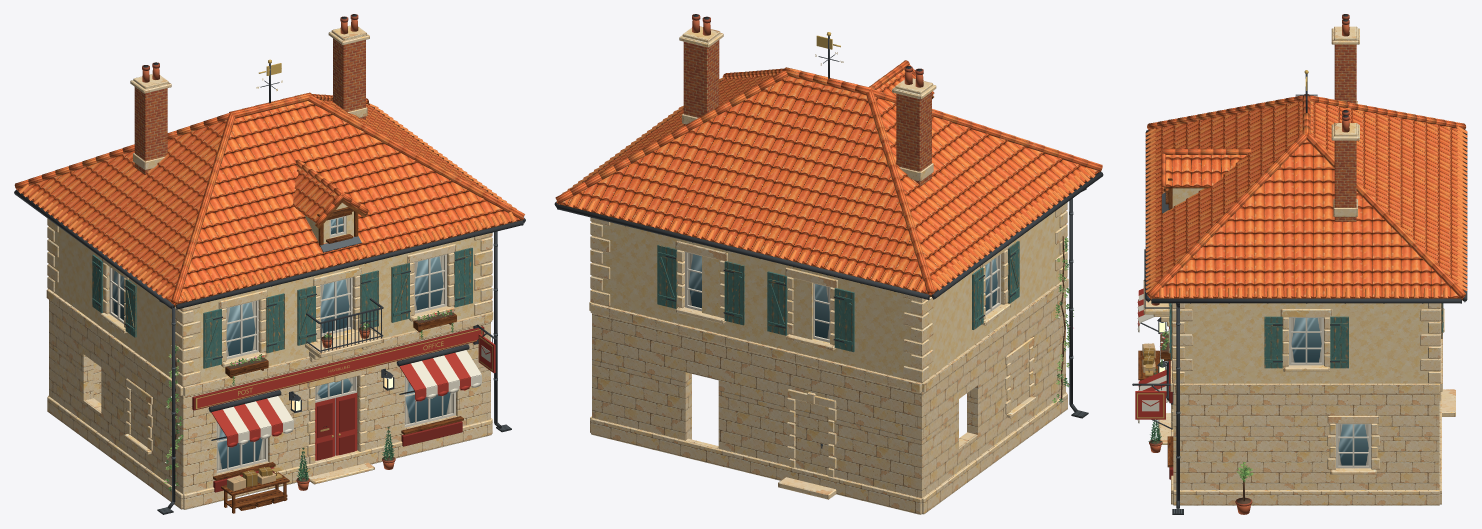
3 views of the same model, side by side, from view 1: azimuth 30°, elevation 25°; view 2: azimuth 150°, elevation 25°; view 3: azimuth 270°, elevation 25° (orthographic). The views are drawn at different scales.
Parts seen in each view (by area): view 1: seaside_roof, seaside_stone, house_paint, seaside_plaster, seaside_shutter, house_window_pane, seaside_ridge, house_brick, detail_parcels, seaside_timber, detail_window_boxes, detail_planters (+1 smaller); view 2: seaside_stone, seaside_roof, seaside_plaster, seaside_ridge, house_paint, seaside_shutter, house_brick, house_window_pane, detail_vines; view 3: seaside_roof, seaside_stone, seaside_plaster, house_paint, seaside_ridge, house_brick, house_window_pane, seaside_shutter, seaside_timber, detail_planters, detail_parcels.
Boxes of the visible parts, bbox=[...] form: seaside_roof: bbox=[17, 99, 524, 304]; seaside_stone: bbox=[46, 25, 493, 509]; house_paint: bbox=[14, 14, 525, 514]; seaside_plaster: bbox=[49, 203, 490, 387]; seaside_shutter: bbox=[92, 247, 472, 368]; house_window_pane: bbox=[112, 217, 452, 470]; seaside_ridge: bbox=[14, 92, 524, 304]; house_brick: bbox=[134, 38, 365, 174]; detail_parcels: bbox=[221, 466, 289, 513]; seaside_timber: bbox=[41, 198, 522, 480]; detail_window_boxes: bbox=[225, 309, 456, 385]; detail_planters: bbox=[296, 427, 395, 490]; seaside_stone: bbox=[589, 26, 1068, 514]; seaside_roof: bbox=[556, 64, 1099, 294]; seaside_plaster: bbox=[592, 211, 1065, 382]; seaside_ridge: bbox=[555, 60, 1102, 294]; house_paint: bbox=[554, 14, 1103, 448]; seaside_shutter: bbox=[657, 241, 1019, 352]; house_brick: bbox=[683, 40, 931, 186]; house_window_pane: bbox=[688, 253, 997, 339]; detail_vines: bbox=[1052, 236, 1074, 403]; seaside_roof: bbox=[1145, 101, 1467, 298]; seaside_stone: bbox=[1143, 26, 1455, 505]; seaside_plaster: bbox=[1172, 188, 1439, 383]; house_paint: bbox=[1132, 14, 1467, 514]; seaside_ridge: bbox=[1147, 94, 1465, 298]; house_brick: bbox=[1334, 44, 1356, 221]; house_window_pane: bbox=[1291, 318, 1368, 465]; seaside_shutter: bbox=[1169, 303, 1443, 368]; seaside_timber: bbox=[1150, 178, 1463, 467]; detail_planters: bbox=[1148, 369, 1253, 514]; detail_parcels: bbox=[1138, 343, 1159, 380].
Bounding box in the file's own units: 10.45 × 10.27 × 8.56.
Materials: 10 (9 with a texture image).
